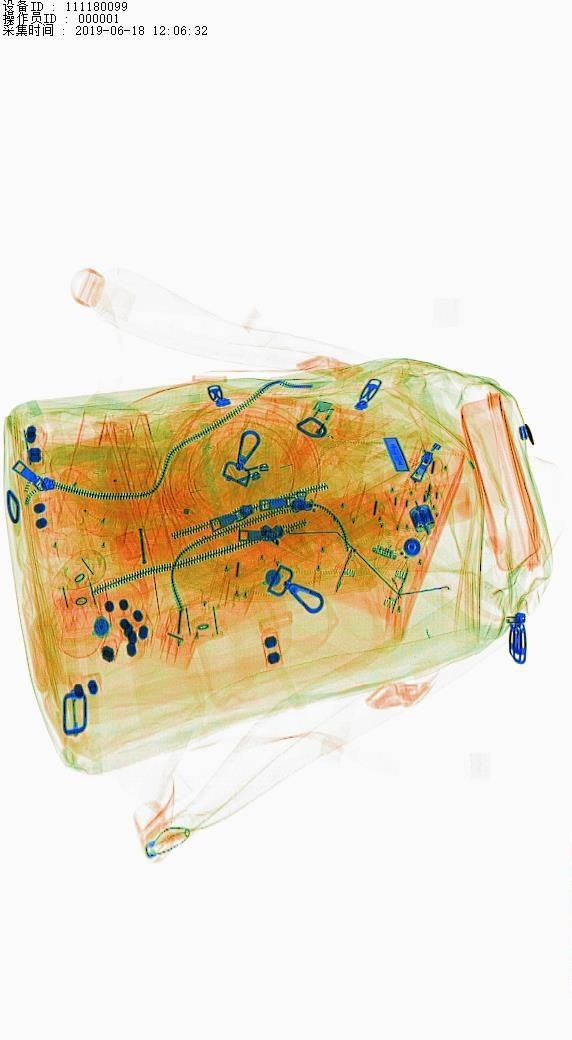NonmetallicFire: (280, 391, 347, 487)
